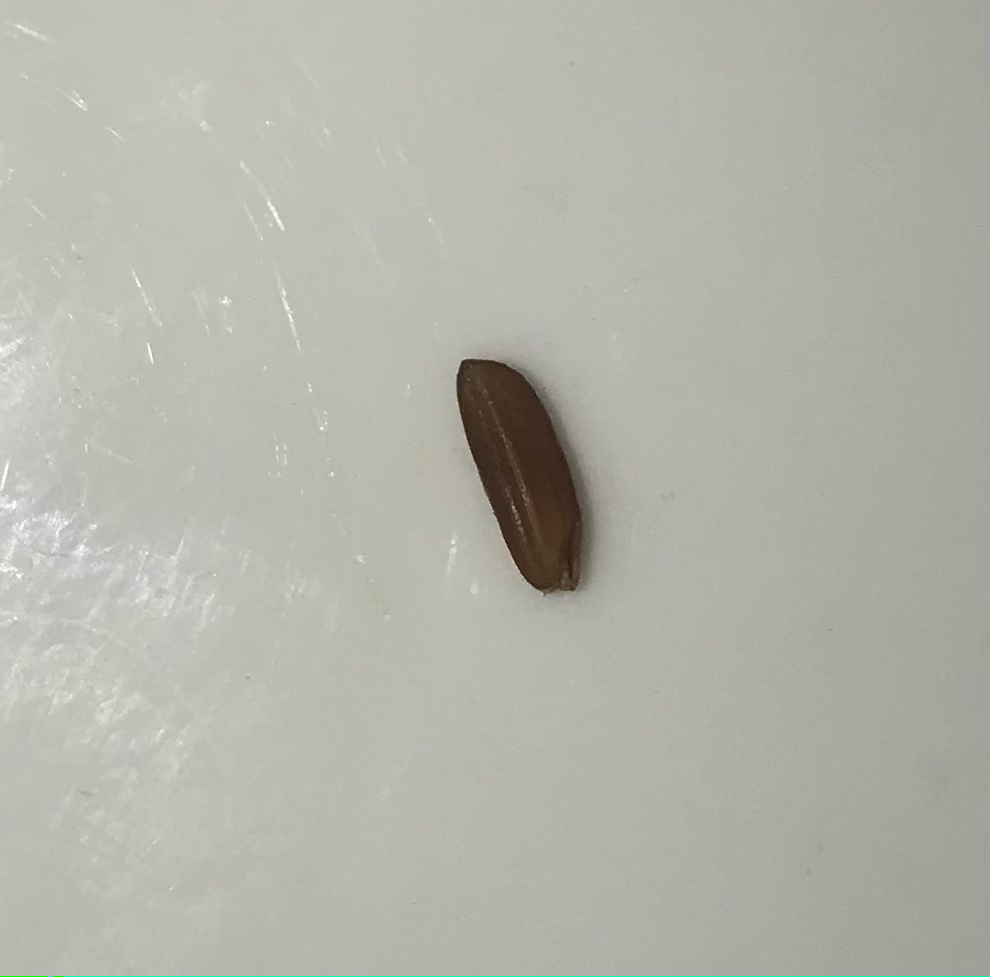Gao Lut Do: (448, 332, 604, 600)
